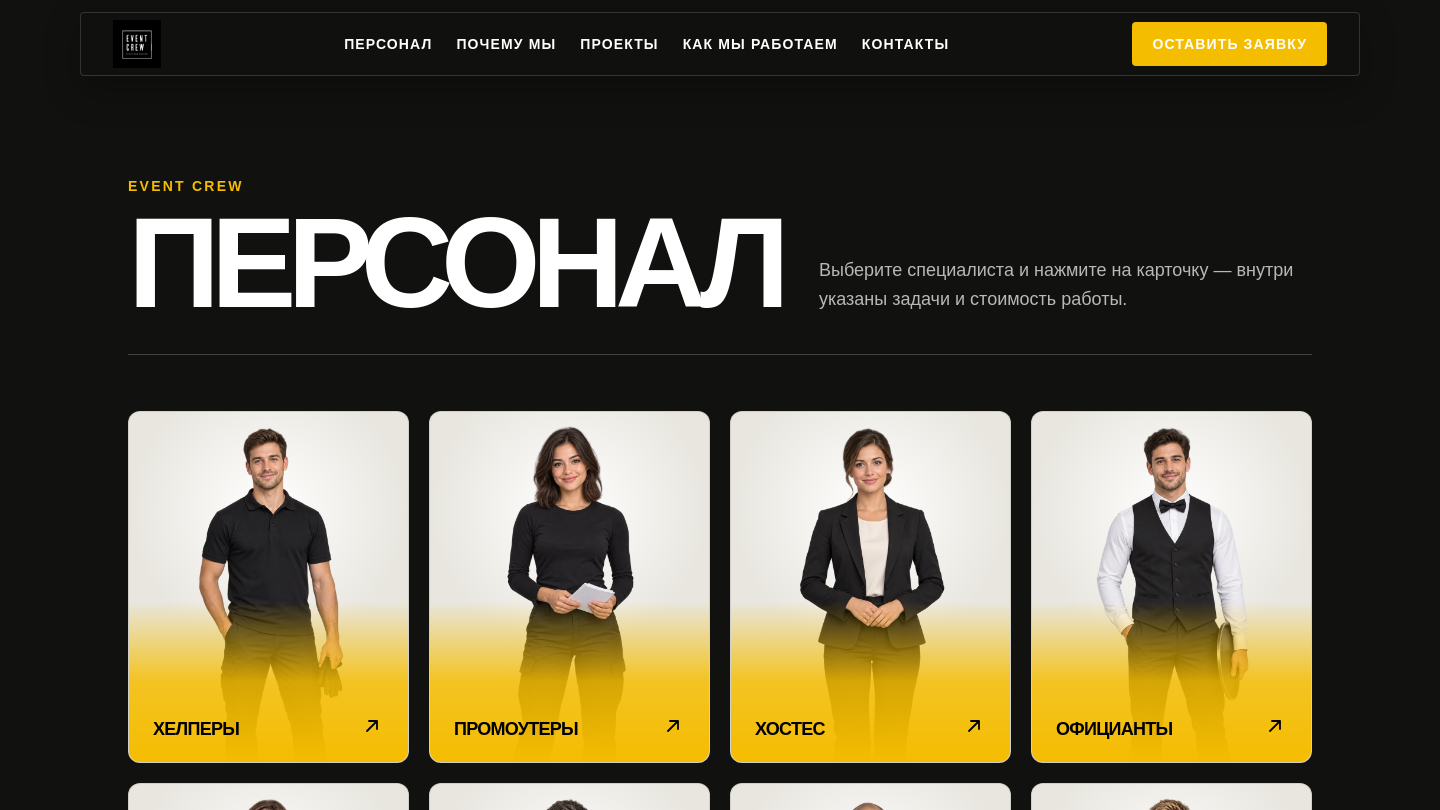
Test: Personnel page › flips an open card back when the same card is activated again without showing a close icon
Click the button with aria-label "Подробнее: Хелперы". click: point(268, 587)
box: [128, 411, 409, 763]
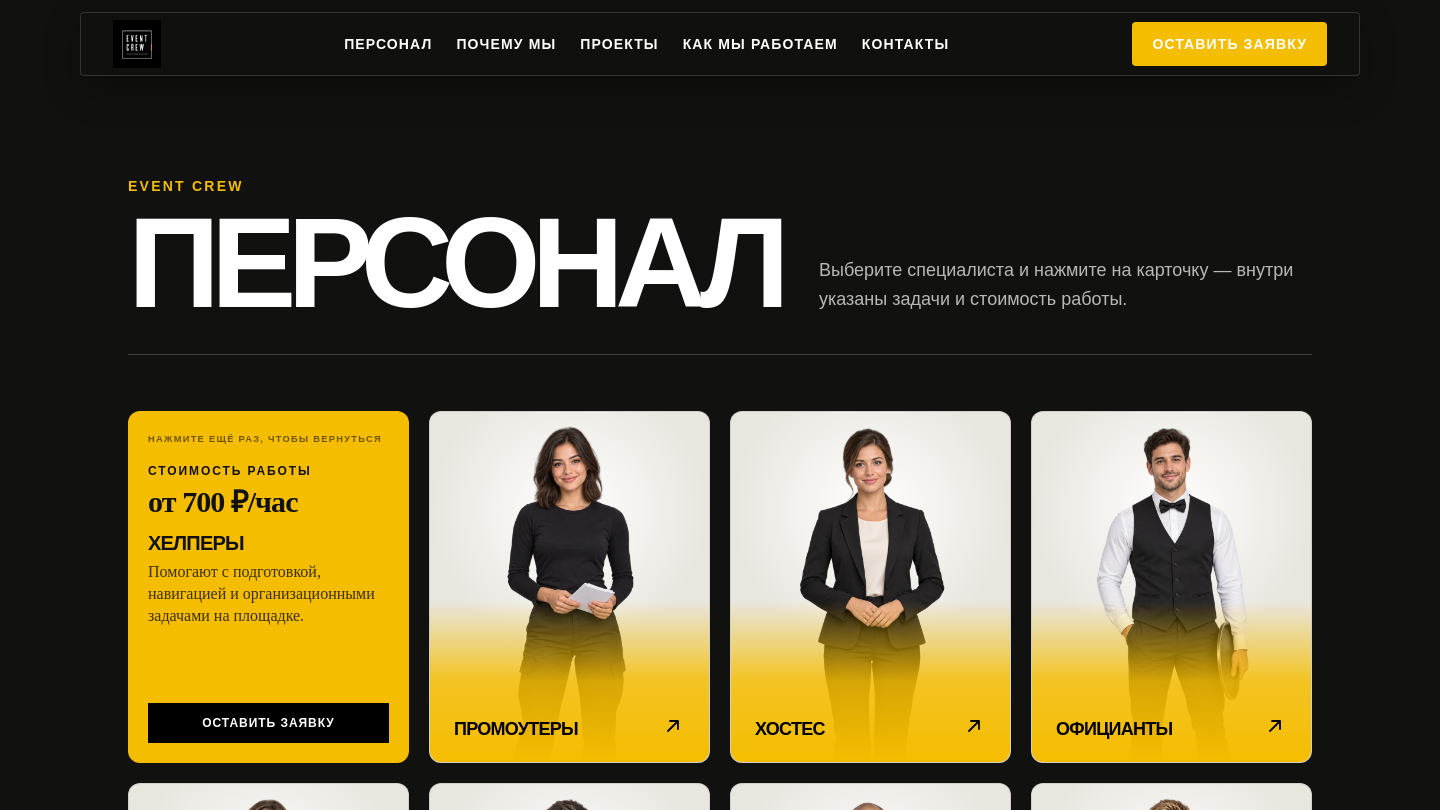
Click the button named "Свернуть карточку: Хелперы". click: point(268, 587)
box: [128, 411, 409, 763]
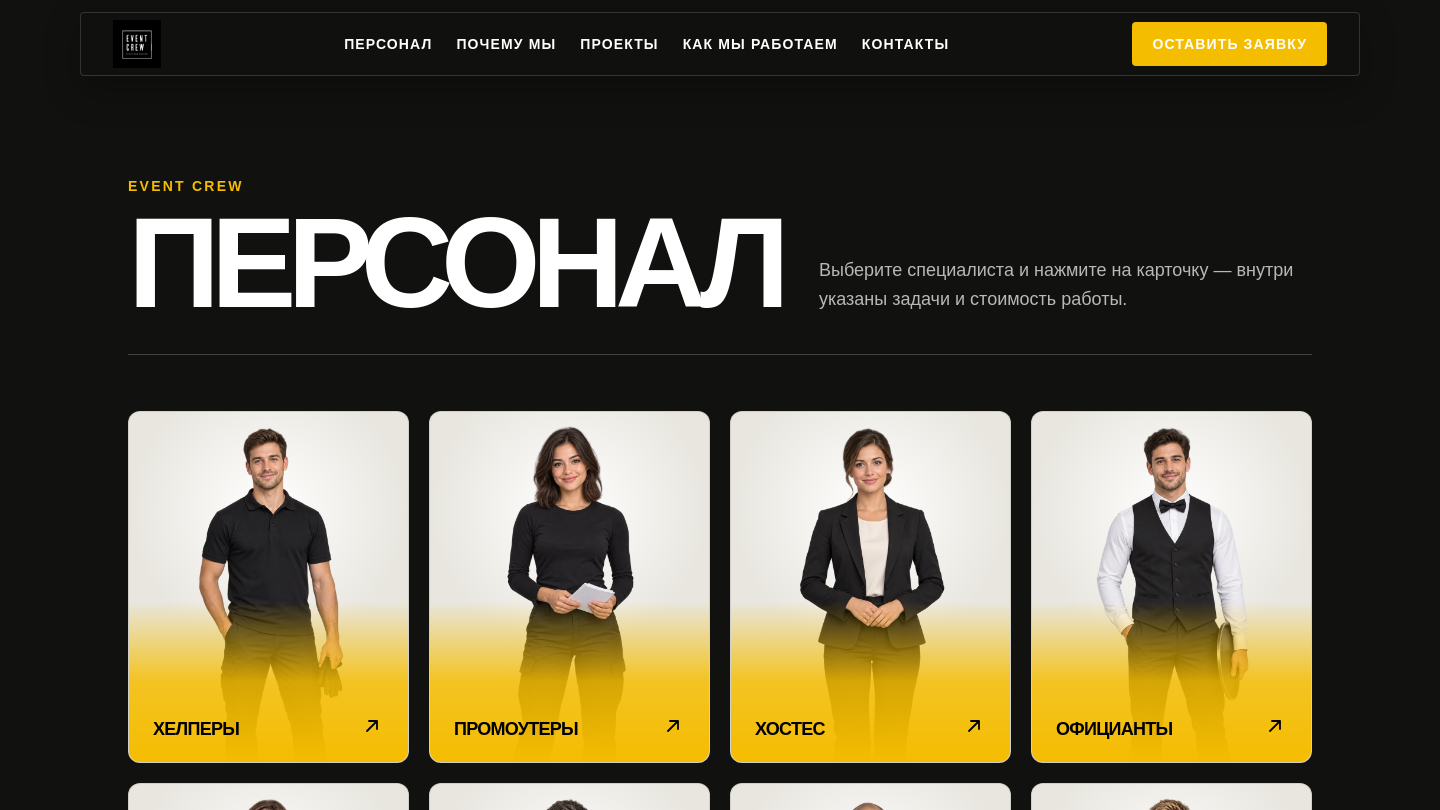
Expected: the text "от 700 ₽/час" is gone
